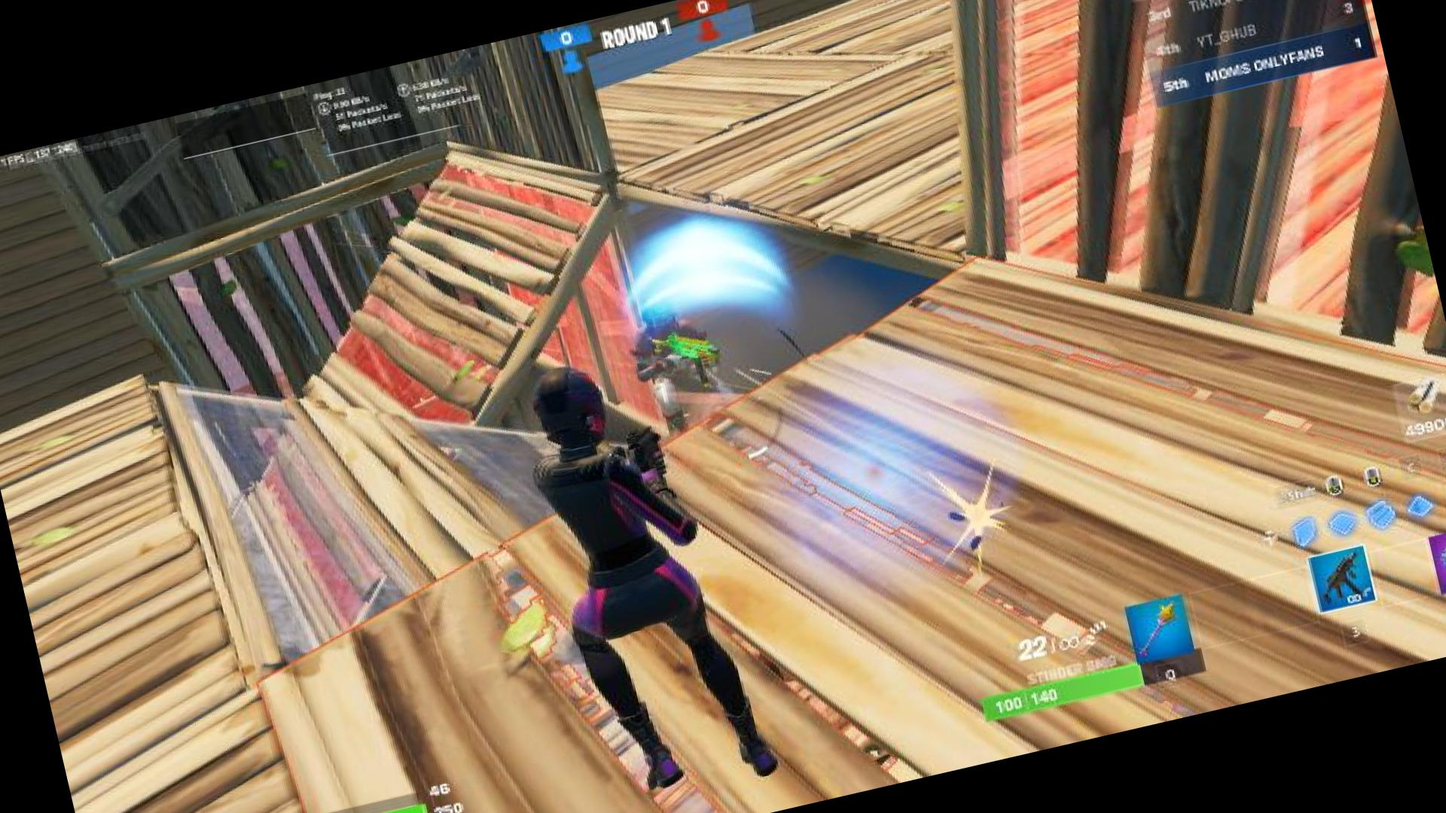player: (613, 291, 752, 434)
